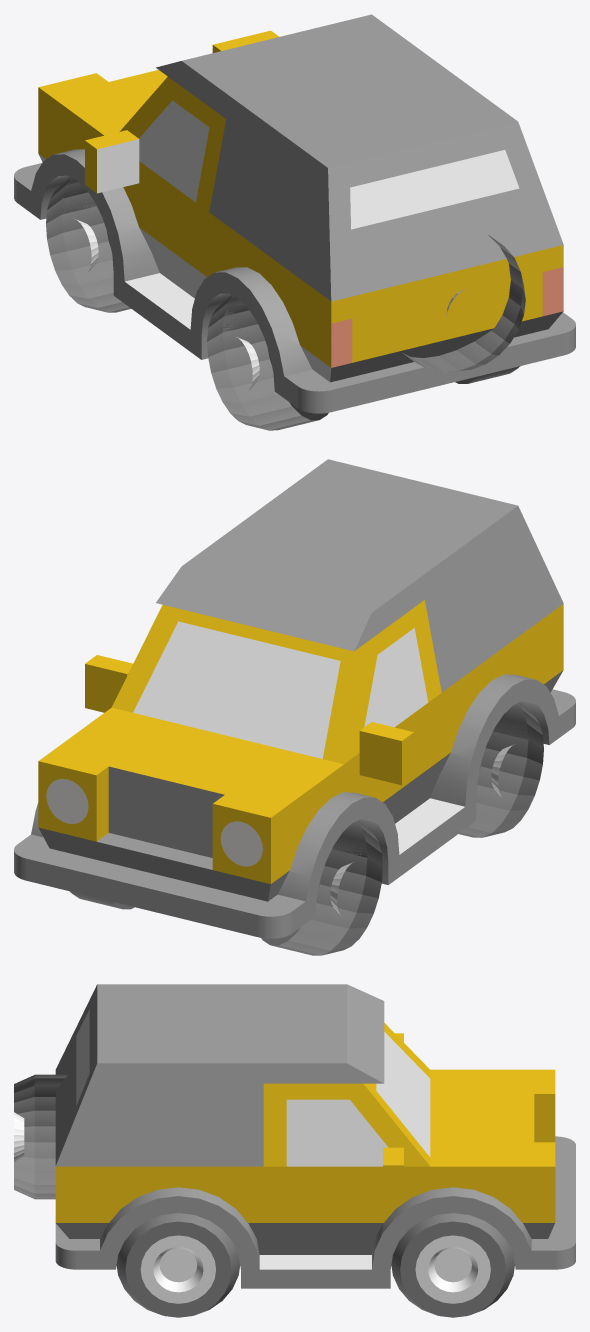
The model's file is suv.glb.
3 renders of one model, top to bottom at view 1: azimuth 30°, elevation 25°; view 2: azimuth 150°, elevation 25°; view 3: azimuth 270°, elevation 25°, orthographic. The views are drawn at different scales.
Parts seen in each view (by area): view 1: body; view 2: body; view 3: body.
Part boxes in pixels (x1=…): body: x1=14, y1=14, x2=575, y2=430; body: x1=14, y1=459, x2=575, y2=955; body: x1=14, y1=984, x2=575, y2=1317.
Size of the model in its own units: 1.5 by 1.3 by 2.7.
